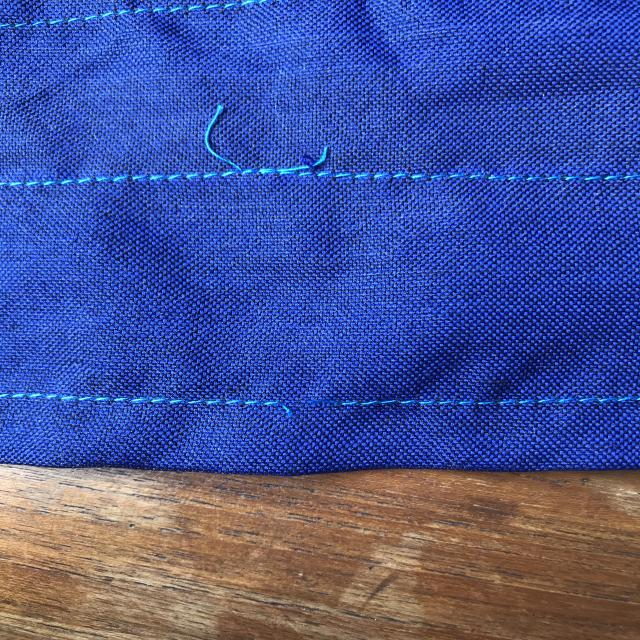broken: (248, 377, 370, 432)
